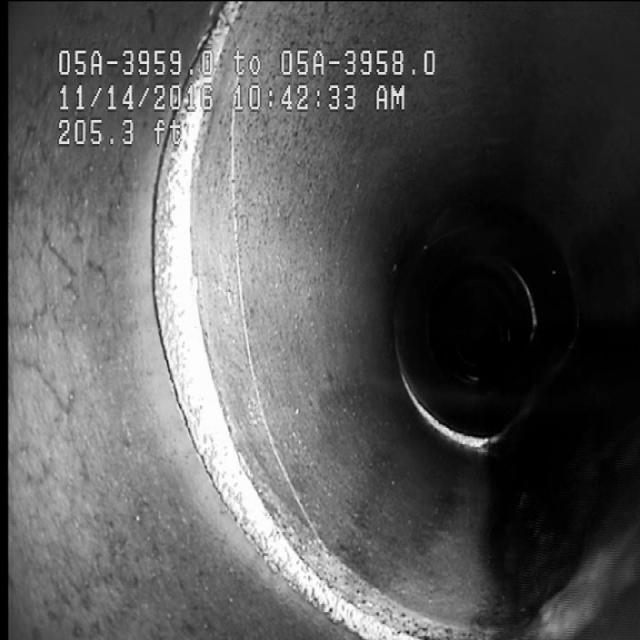Crack: (220, 132, 296, 484)
